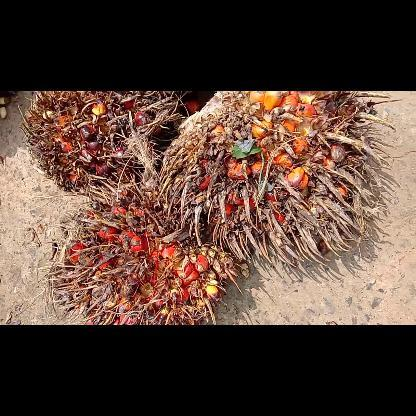Terlalu masak: (154, 90, 400, 274), (43, 176, 243, 324), (20, 90, 188, 196)
